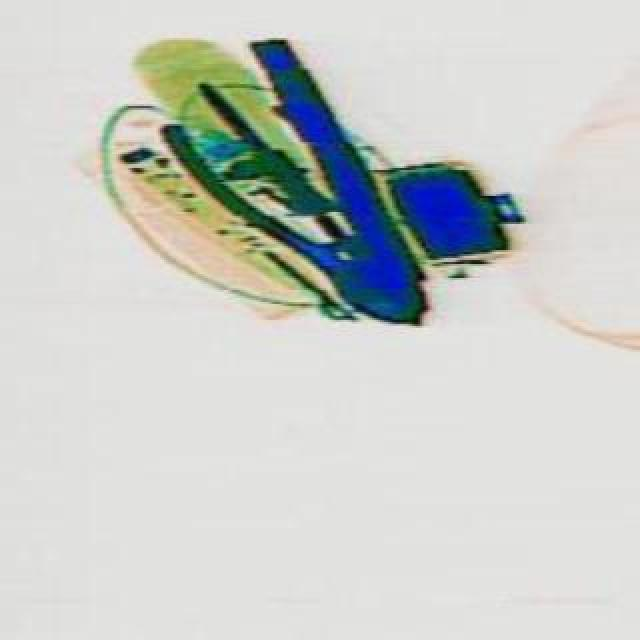wrench: (140, 24, 480, 366)
